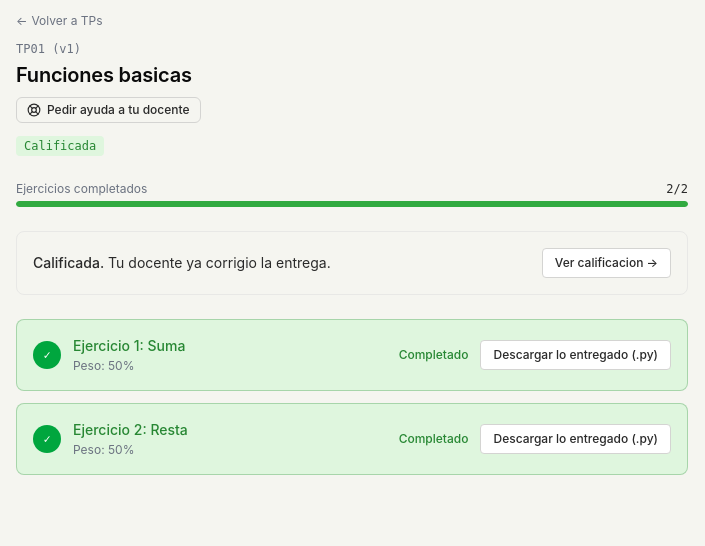
Test case: descarga de lo entregado › falla la charla: baja el codigo igual y avisa
Expected: the list item with test id "ejercicio-item-1" is shown, [16,319,688,391]
Click the button "Descargar lo entregado (.py)" in the row of "Suma". click: click(576, 355)
box: [480,340,671,370]
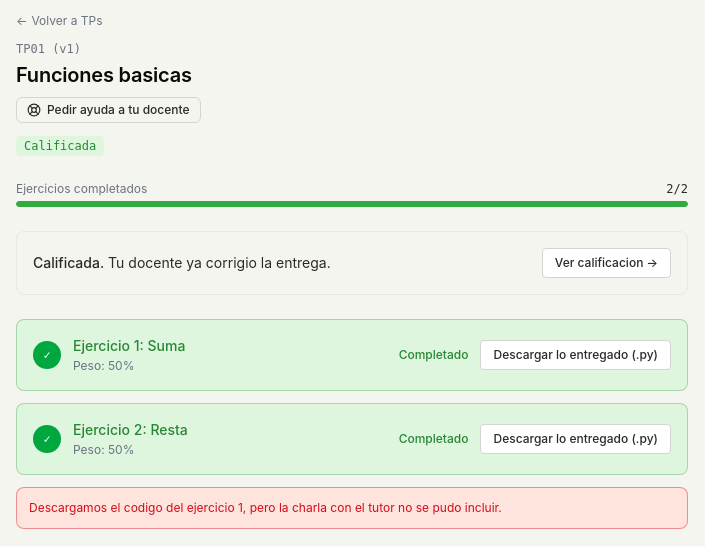
Now the text with test id "descarga-error" shows "charla", box [29,500,502,515]
